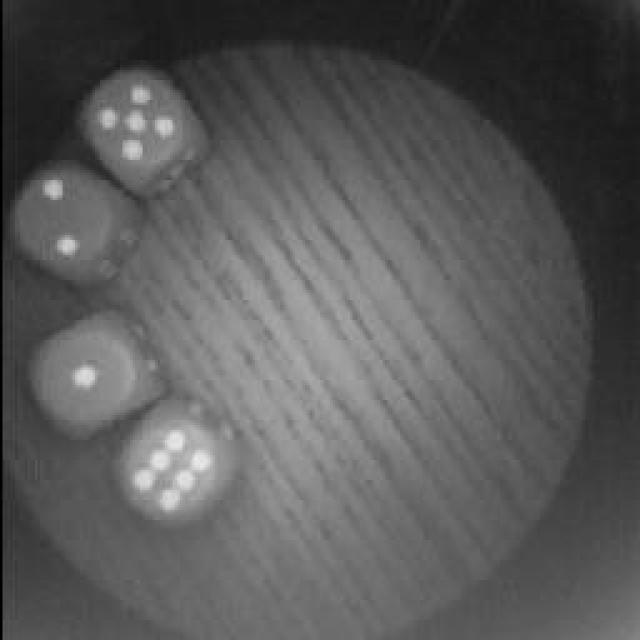dice_1: (28, 312, 158, 438)
dice_2: (0, 160, 128, 285)
dice_5: (72, 60, 198, 178)
dice_6: (110, 412, 238, 530)
